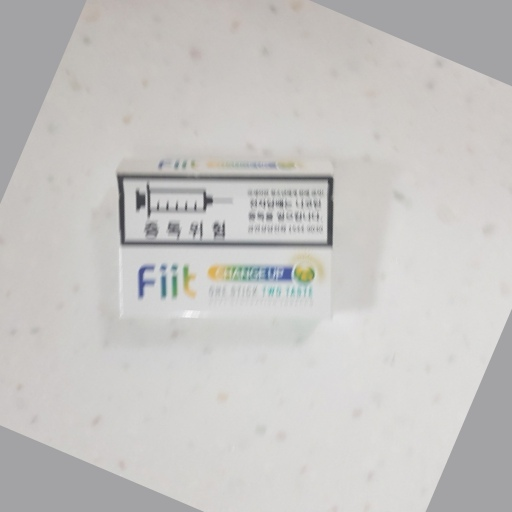Paper_0: (108, 150, 341, 317)
